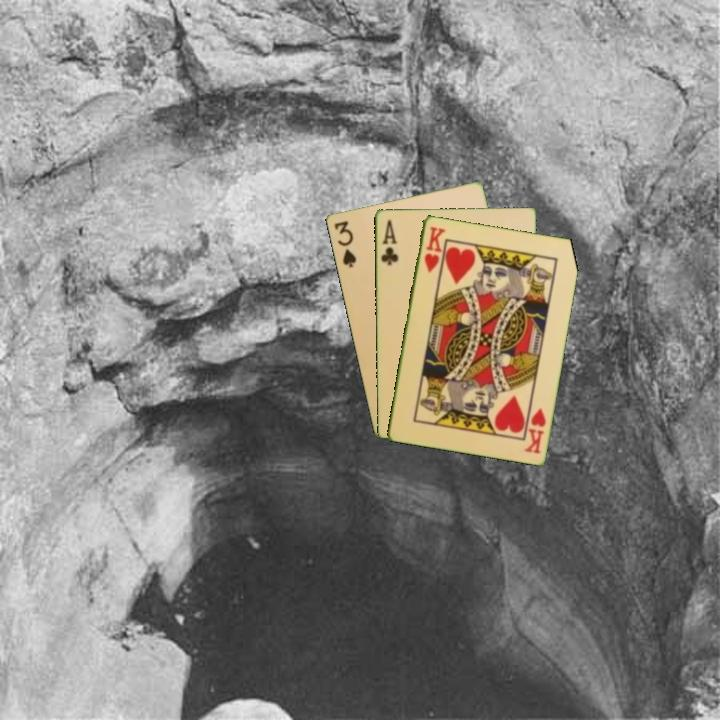3s: (330, 217, 359, 270)
Ac: (377, 216, 401, 267)
Kh: (521, 404, 549, 456), (420, 223, 447, 275)
